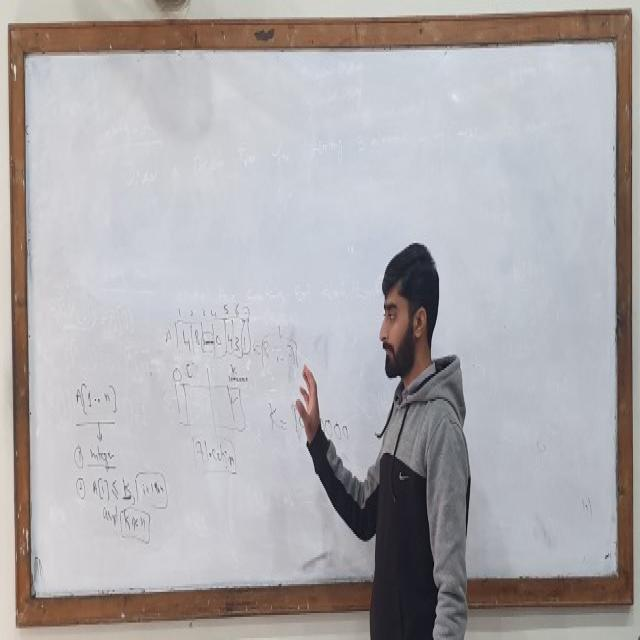Instructor: (364, 242, 474, 632)
White-board: (18, 22, 627, 614)
